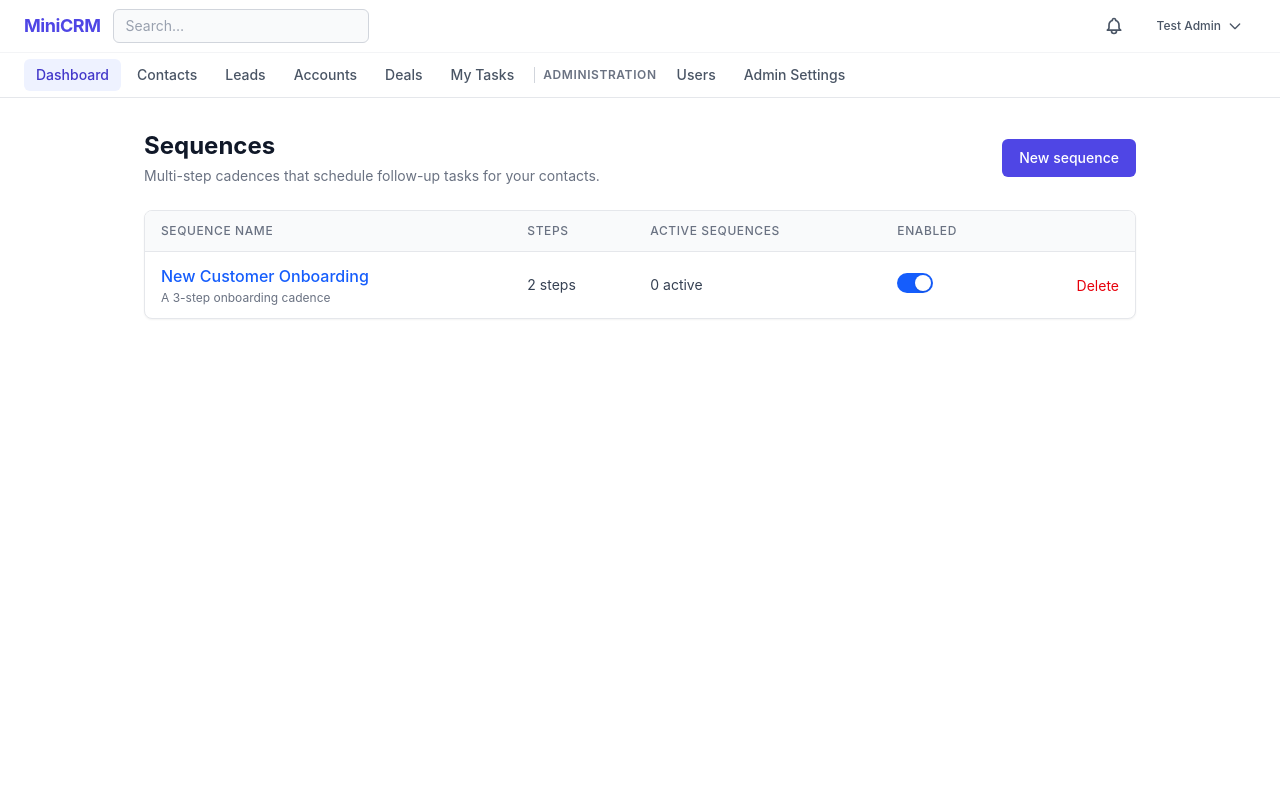
it: SequencesPage › shows an error message when sequence creation fails
Click the button with test id "new-sequence-button" at (1069, 158), box [1002,139,1136,177]
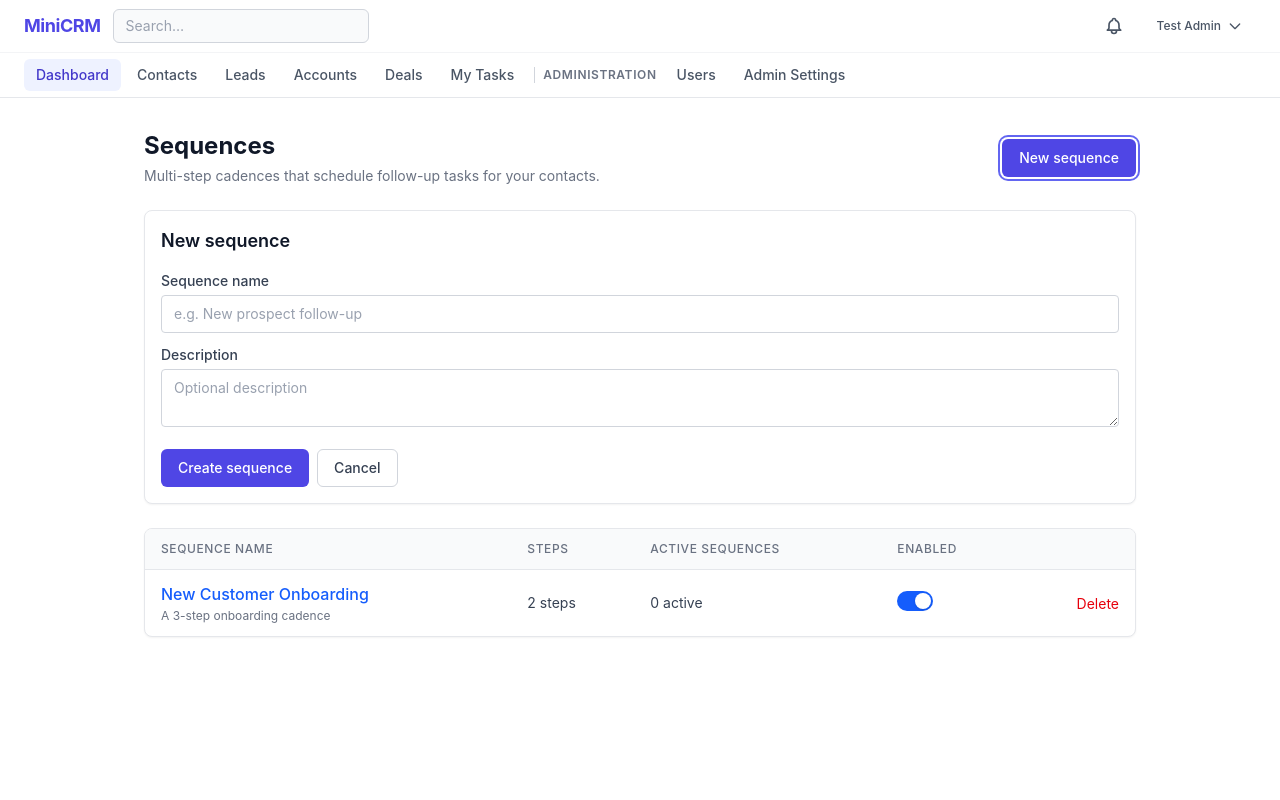
Type "Duplicate" into the field with test id "sequence-name-input" at (640, 314), box [161,295,1119,333]
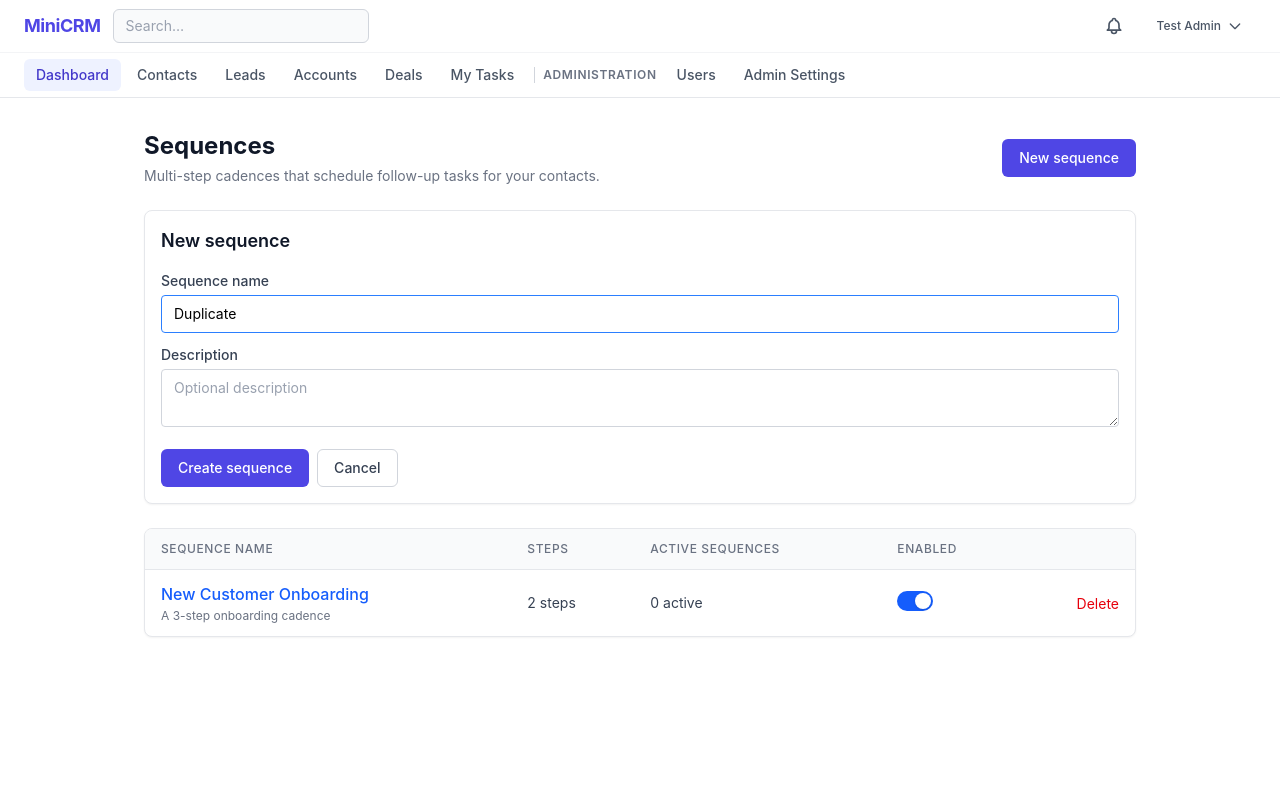
Click the button with test id "create-sequence-submit" at (235, 468), box [161,449,309,487]
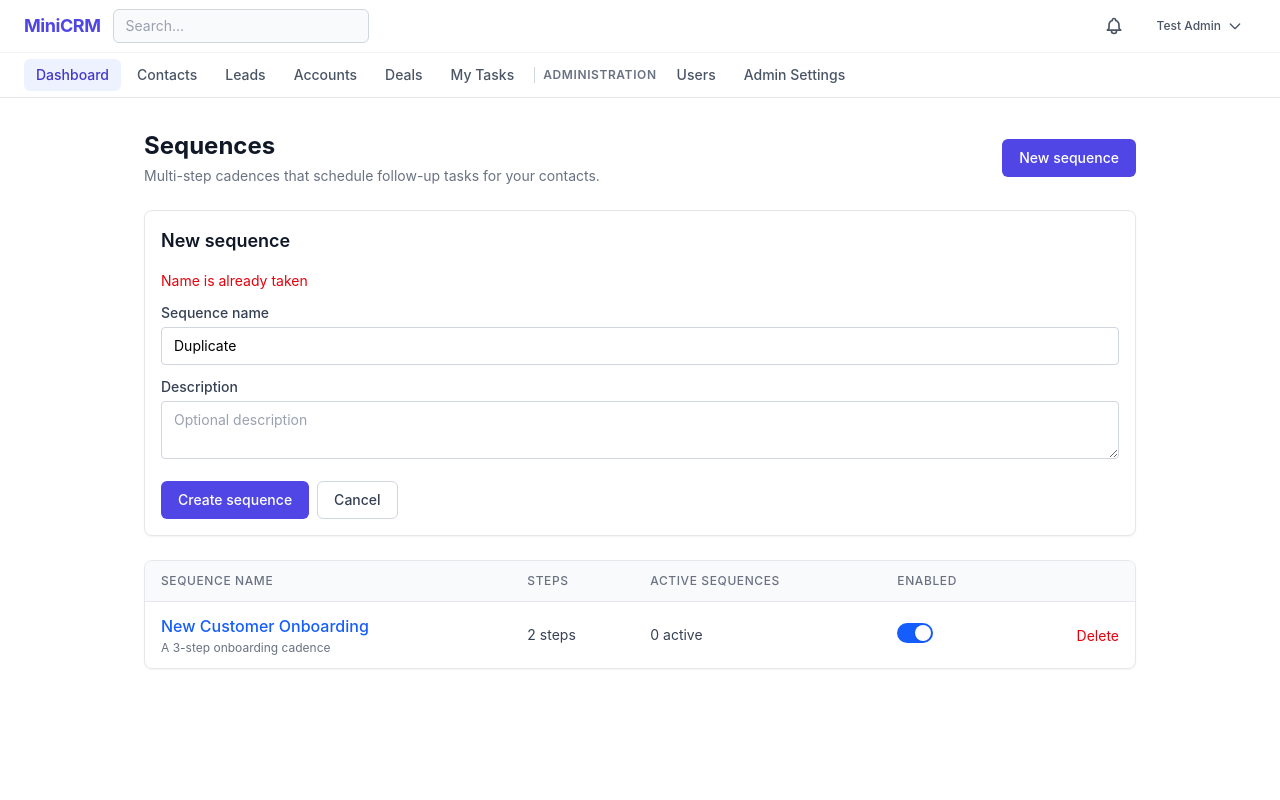
expect the message reads "Name is already taken": met, box [161,272,308,289]
